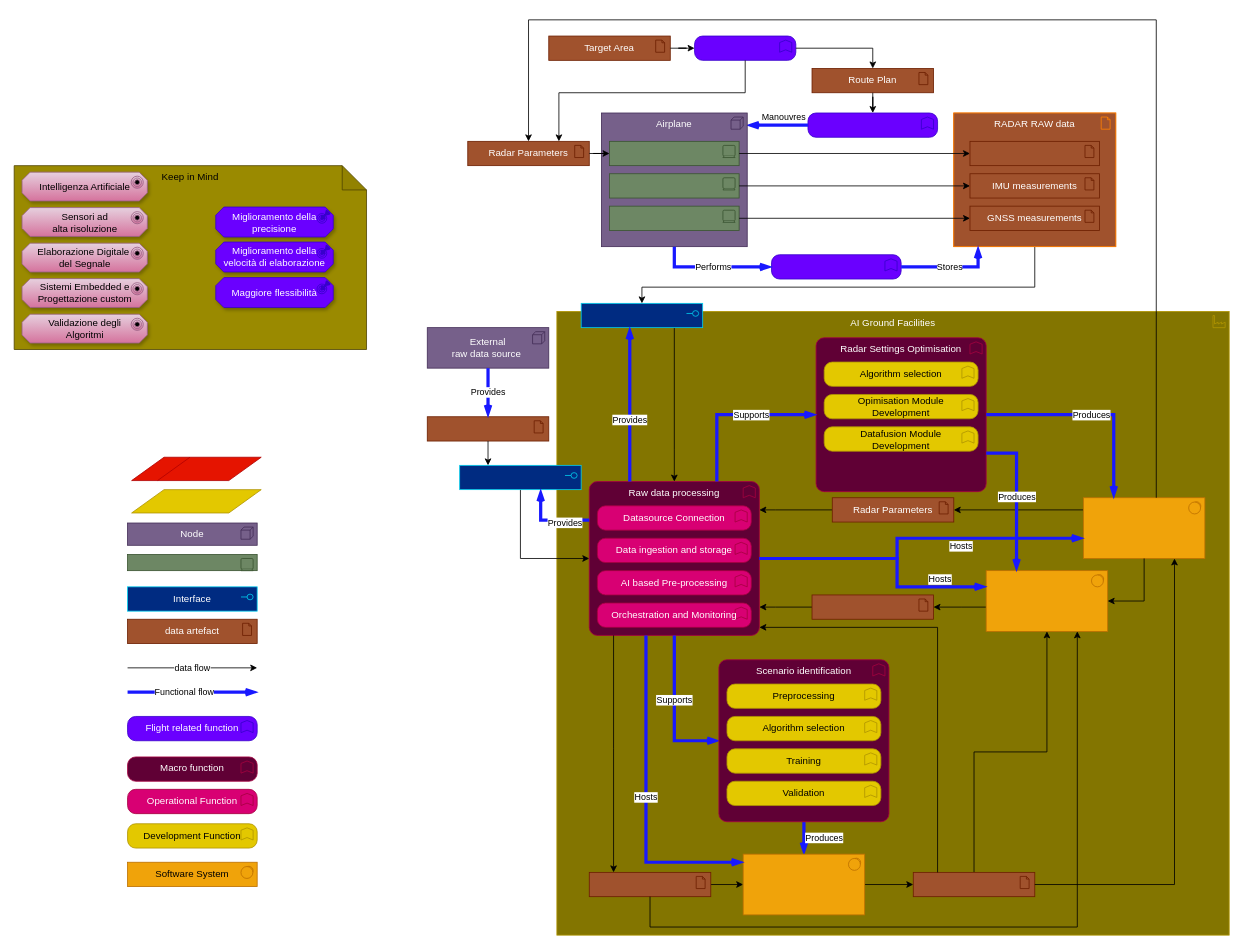
Image size: 1243x949. Some labels were removed from this diagram. The centre of each missing label's shape, as x and y in pixels:
"Acquisition Flight" goes at point (872, 124).
"Constraint" goes at point (196, 468).
"Device" goes at point (192, 562).
"External datasource interface" goes at point (520, 477).
"External RAW data" goes at point (487, 428).
"Final Radar Image" goes at point (872, 606).
"GNSS" goes at point (674, 217).
"IMU" goes at point (674, 185).
"Mission Planning" goes at point (745, 47).
"Multiband / Multisettigs Datafusion Model" goes at point (1046, 600).
"RADAR" goes at point (674, 153).
"RADAR Raw Data Inflight Storage" goes at point (836, 266).
"Radar Raw Data Interface" goes at point (641, 315).
"Range Compressed" goes at point (1034, 153).
"RAW data" goes at point (649, 884).
"Requirement" goes at point (196, 501).
"Scenario Class" goes at point (973, 884).
"Scenario Identification Model" goes at point (803, 884).
"Settings Optimisation Model" goes at point (1144, 527).
